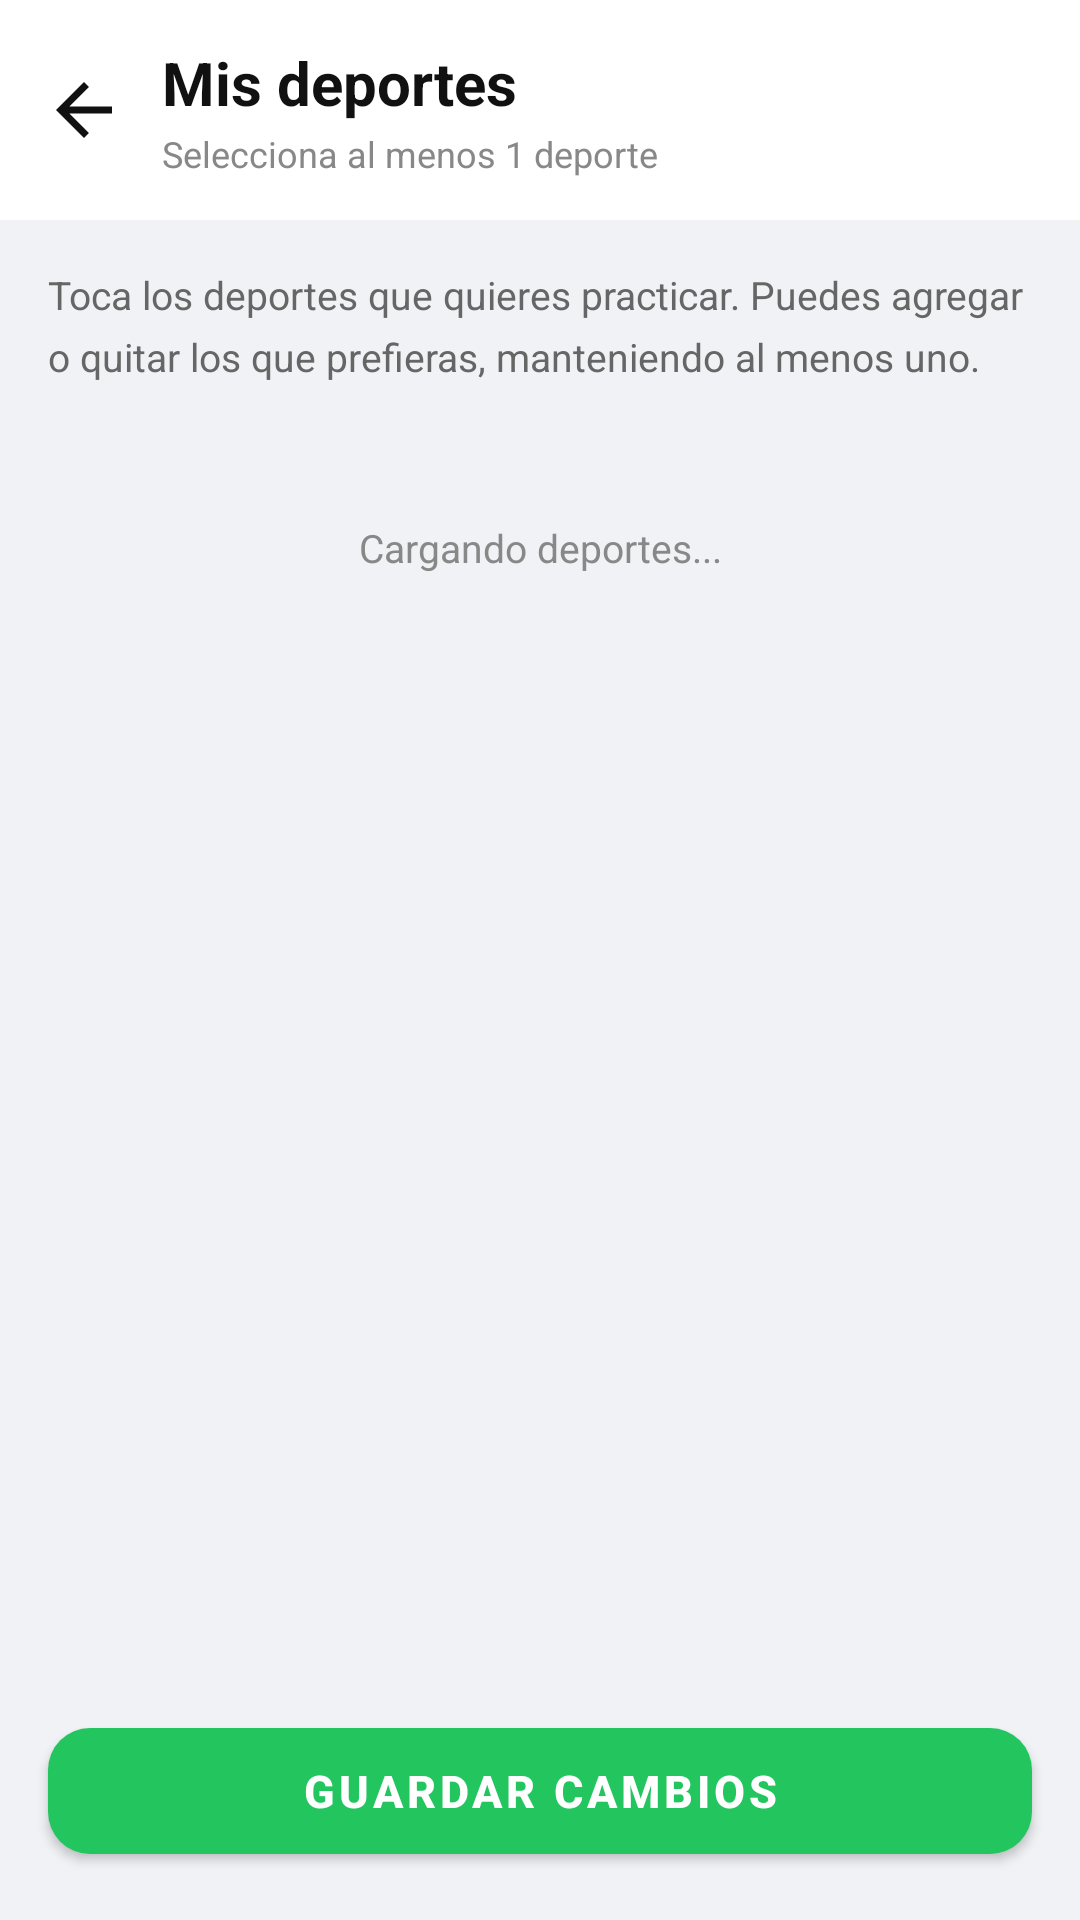

Locate icon controls on the screen. Image size 1080w x 1920h, boxes as (x1, y1, x2, y2).
Volver: (56, 82, 112, 138)
